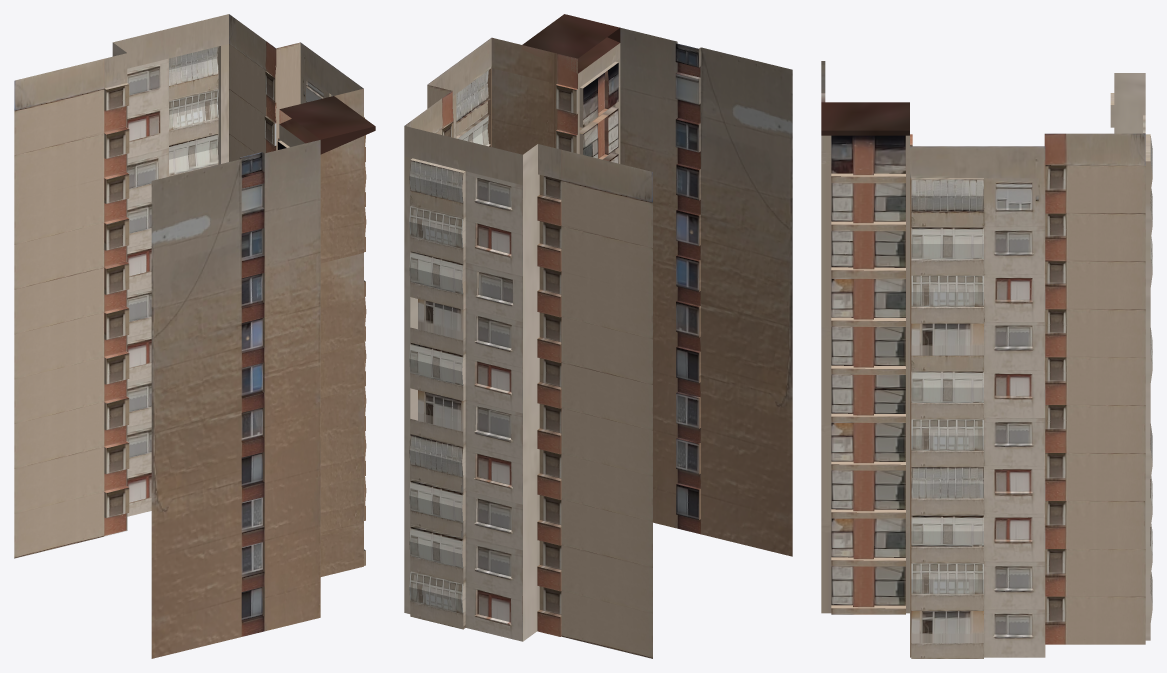
The model's file is building_01.glb.
3 renders of one model, left to right at view 1: azimuth 30°, elevation 25°; view 2: azimuth 150°, elevation 25°; view 3: azimuth 270°, elevation 25°, orthographic. The views are drawn at different scales.
Parts seen in each view (by area): view 1: Cube.001; view 2: Cube.001; view 3: Cube.001.
Boxes of the visible parts, x1,y1,x2,y2 form: Cube.001: (14, 14, 375, 658); Cube.001: (404, 14, 792, 658); Cube.001: (821, 61, 1152, 658).
Size of the model in its own units: 3.04 by 5.4 by 3.18.
Materials: 3 (2 with a texture image).
